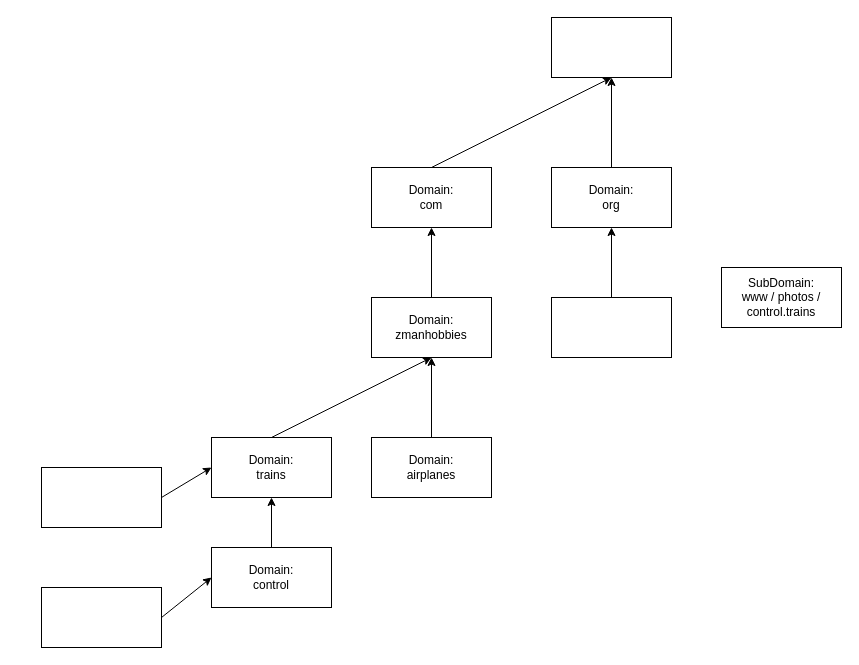
This 859x665 diagram has some shape labels left out. The shapes that lost their labels are listed below. From the top down, each one's centre as x and y in pixels, then its label:
At point (611, 47): "Domain: .".
At point (611, 327): "Domain: jerrytime".
At point (101, 497): "Host: trains.zmanhobbies.com".
At point (101, 617): "Host: control.trains.zmanhobbies.com".
